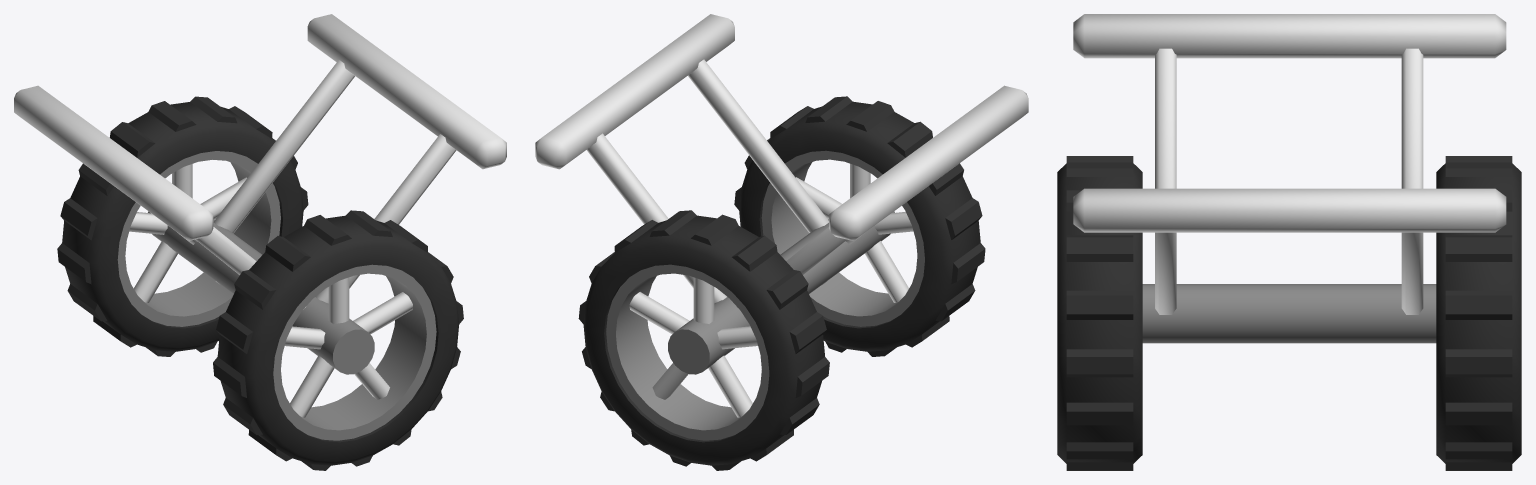
Rendered from wheels_rubber_mid.fbx.
3 renders of one model, left to right at view 1: azimuth 30°, elevation 25°; view 2: azimuth 150°, elevation 25°; view 3: azimuth 270°, elevation 25°, orthographic. The views are drawn at different scales.
Visible parts, largest first — view 1: wheels_rubber_mid; view 2: wheels_rubber_mid; view 3: wheels_rubber_mid.
Boxes of the visible parts, bbox=[...] form: wheels_rubber_mid: bbox=[14, 14, 506, 470]; wheels_rubber_mid: bbox=[535, 14, 1028, 470]; wheels_rubber_mid: bbox=[1057, 14, 1521, 470].
Bounding box in the file's own units: 199 × 169 × 203.
